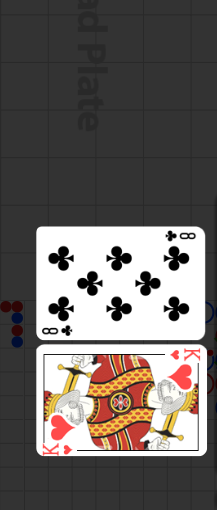8C: (164, 229, 198, 243)
